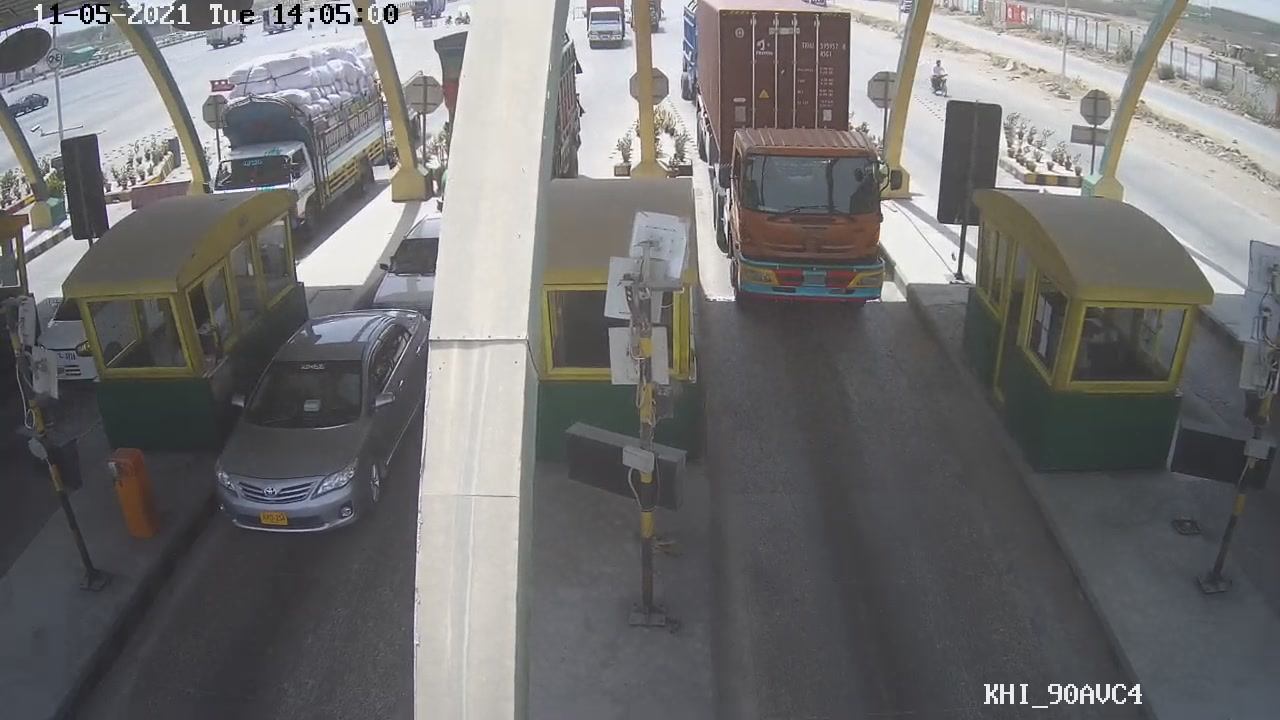F6: (691, 3, 906, 318)
